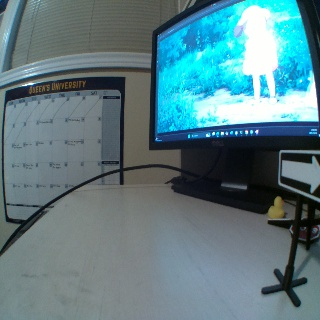sign_oneway_right: (279, 149, 319, 201)
